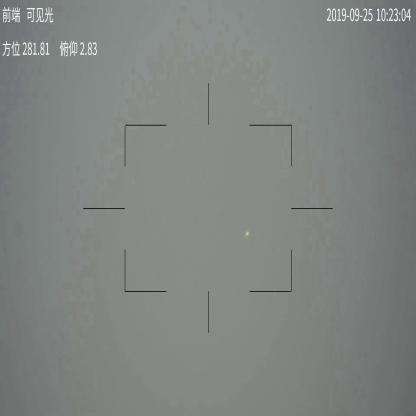uav: (244, 230, 250, 238)
